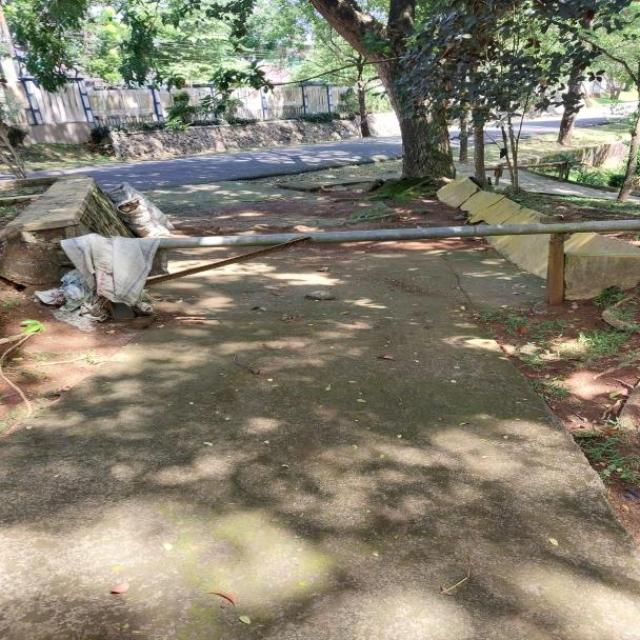barrier ahead at: (65, 216, 640, 248)
